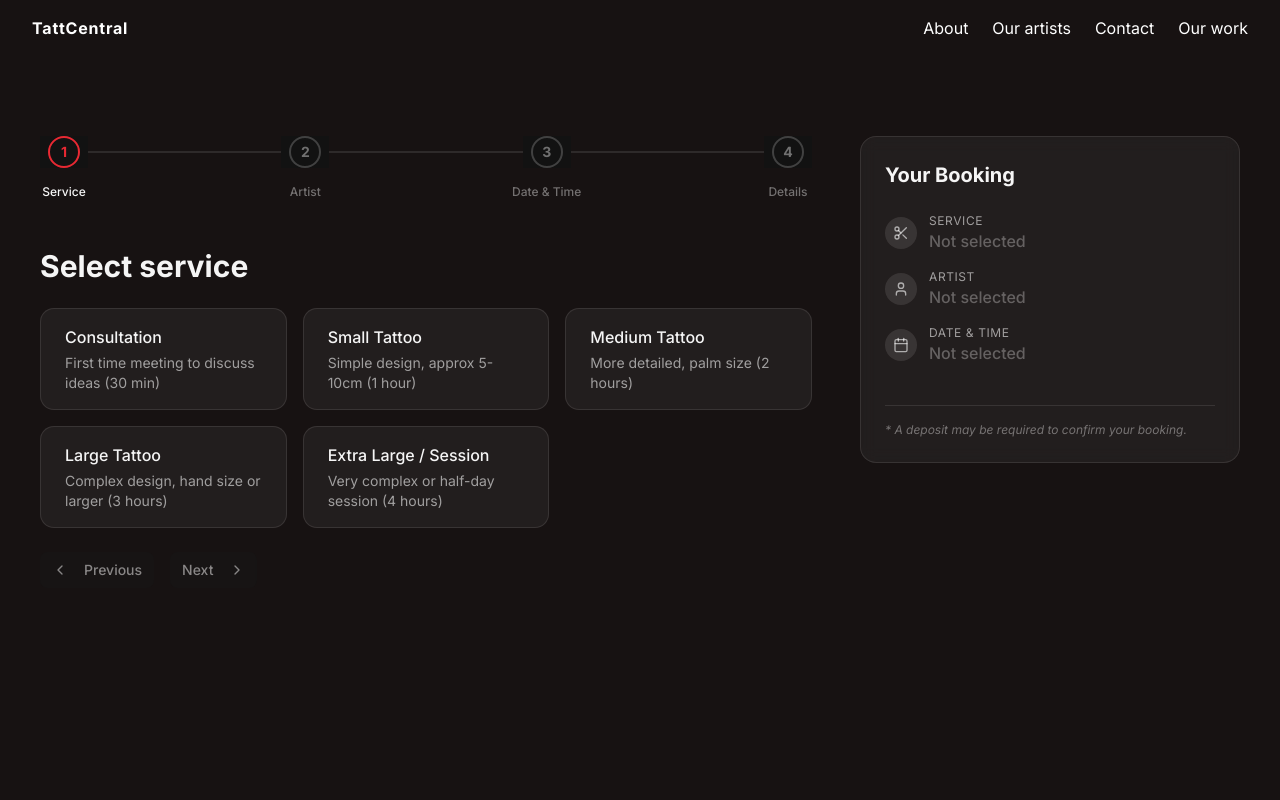
Test: BookingRoute › validates steps before allowing navigation
Expected: the button "Next" is disabled, [170,552,257,588]
Click the text "Small Tattoo" at [375, 337], box [328,325,422,349]
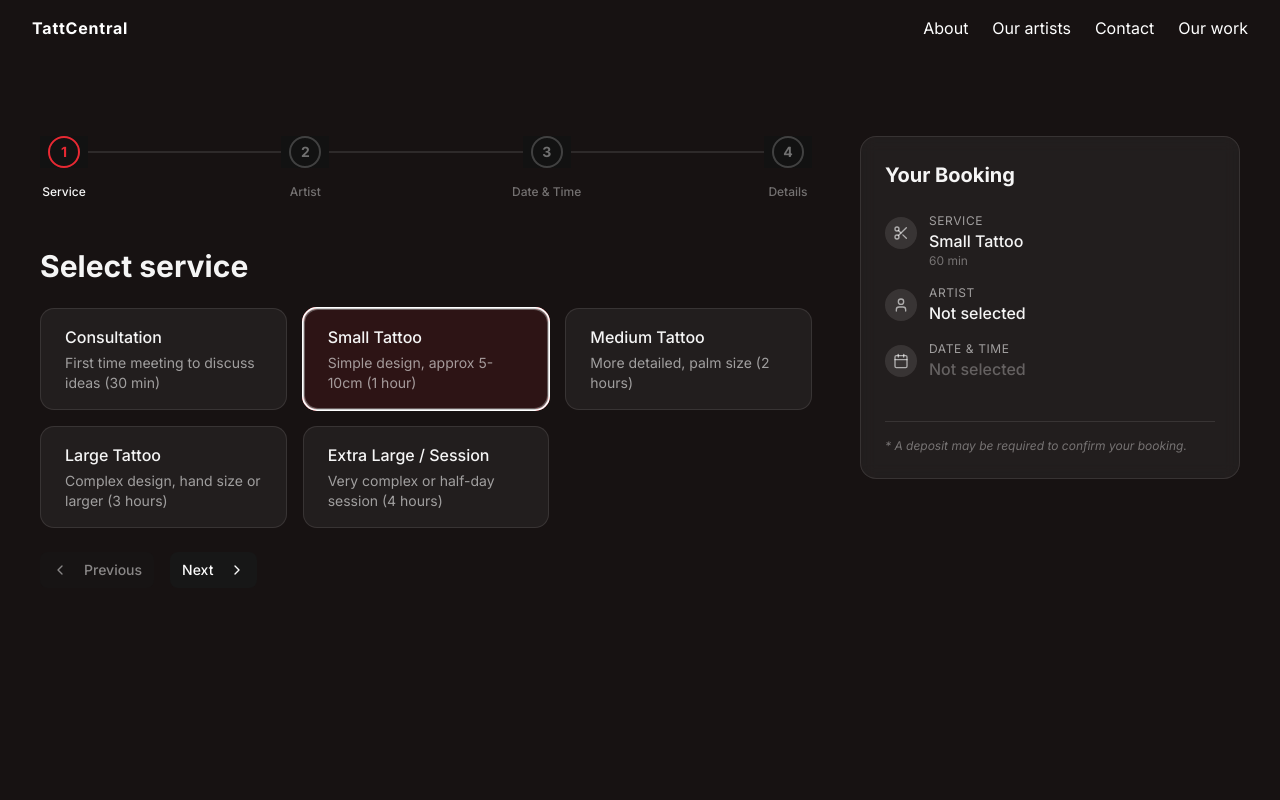
Expected: the button "Next" is enabled
Click the button "Next" at [214, 570], box [170,552,257,588]
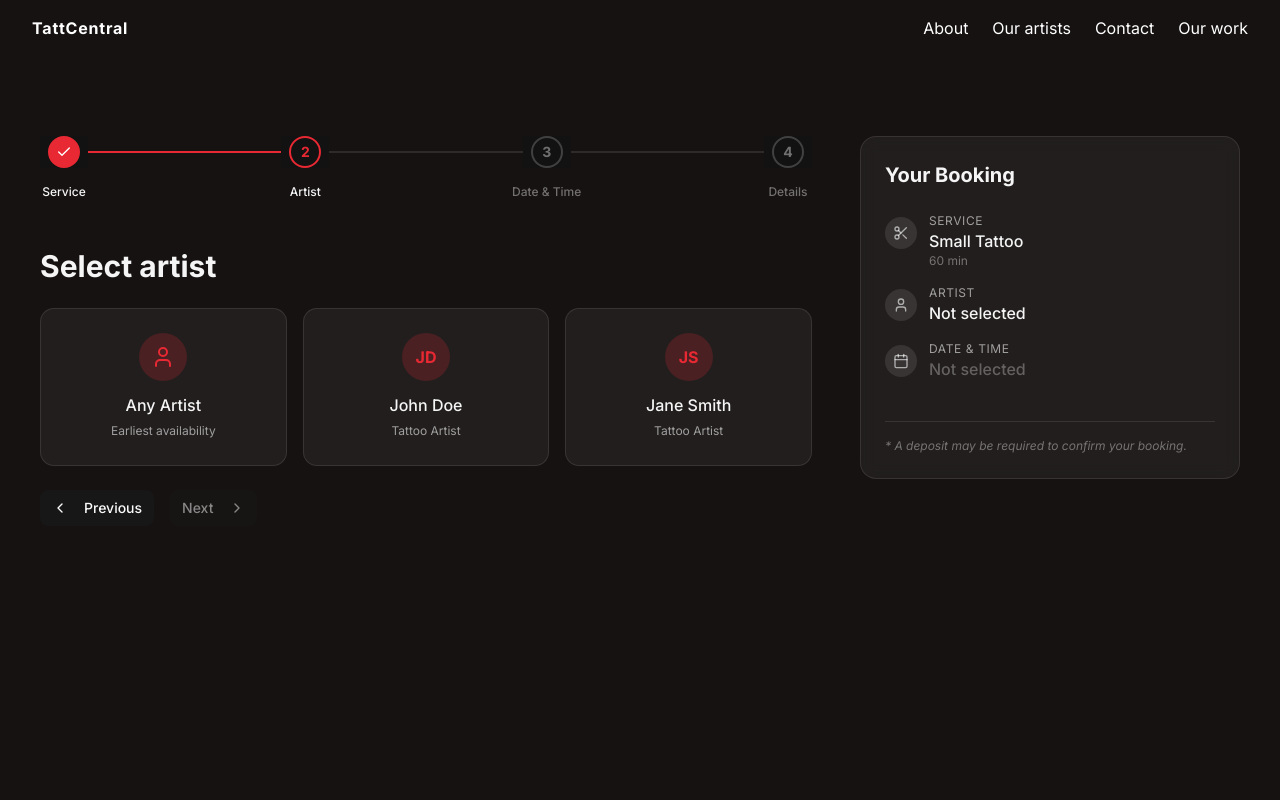
Expected: the button "Next" is disabled, [170,490,257,526]
Click the text "Any Artist" at [163, 405], box [126,395,201,415]
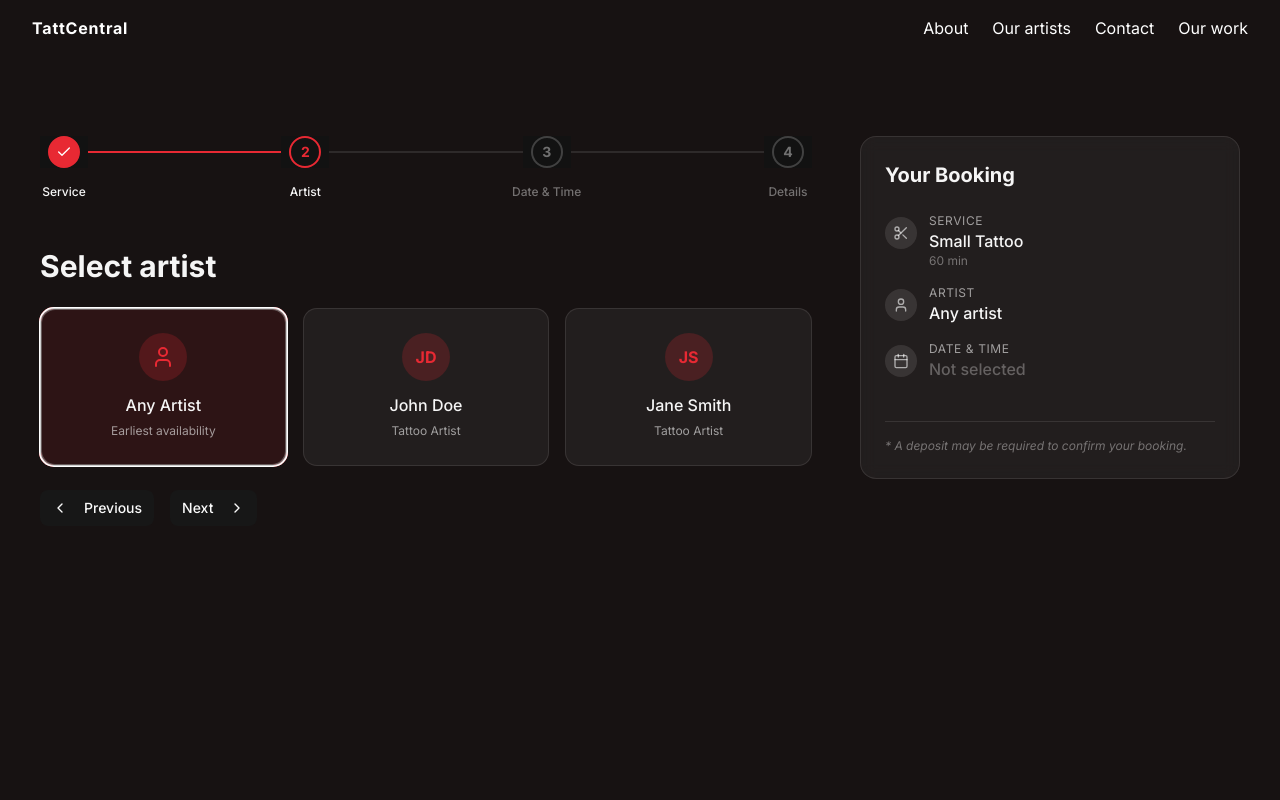
Expected: the button "Next" is enabled, [170,490,257,526]
